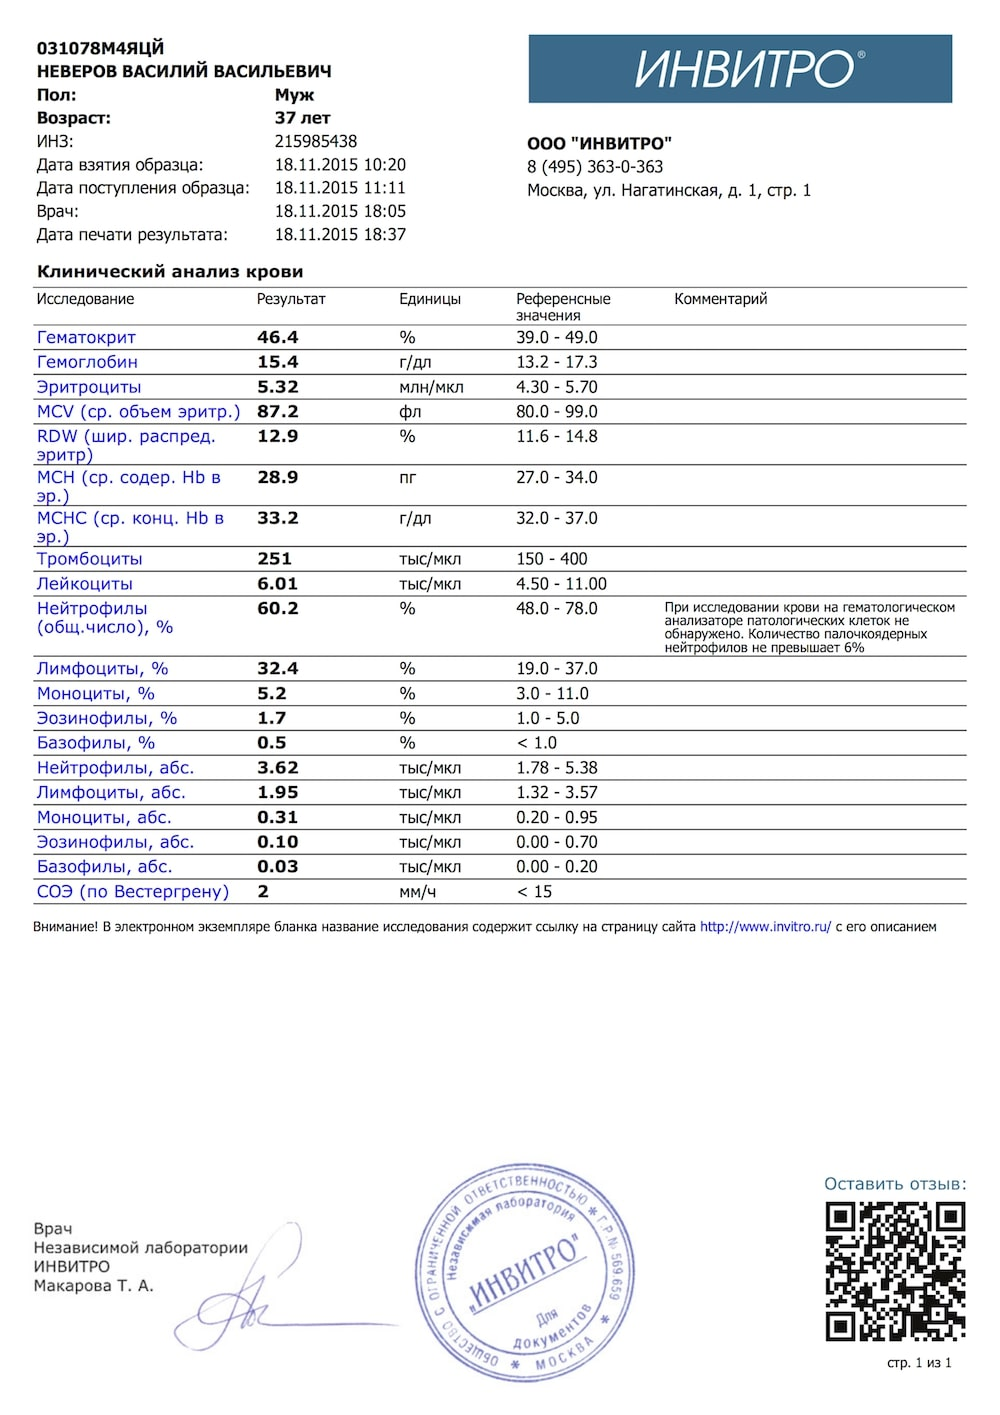column: (665, 287, 956, 903), (35, 287, 241, 903), (515, 287, 611, 903), (256, 287, 327, 903), (398, 287, 464, 903)
